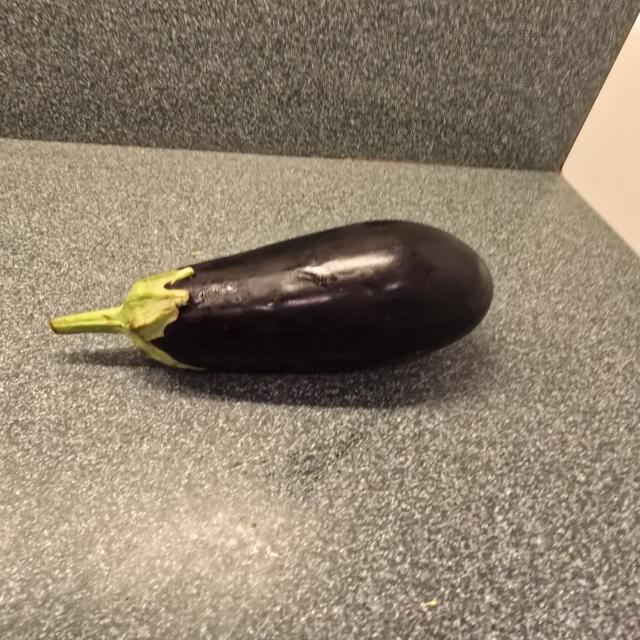Eggplant: (37, 212, 504, 382)
